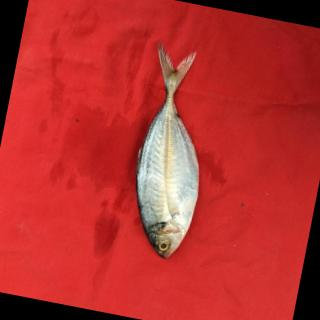Ikan: (118, 44, 231, 260)
